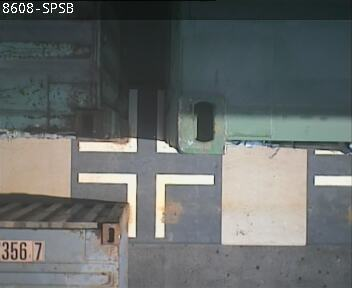groundmarker_1: (77, 172, 214, 237), (80, 88, 175, 151)
